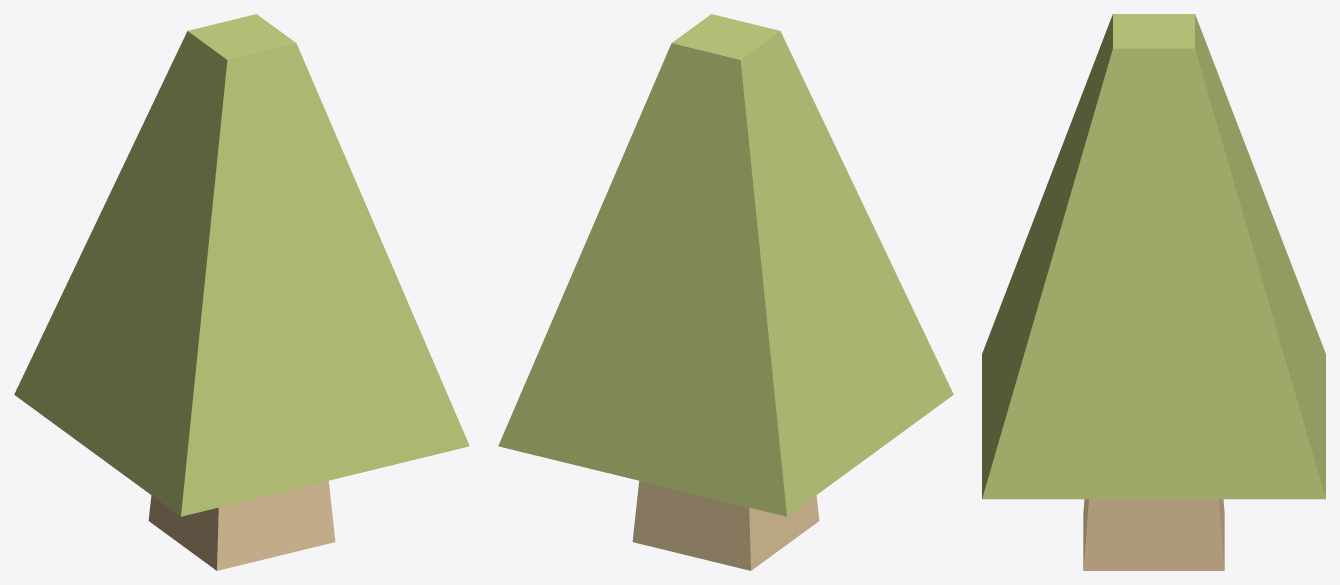
The model's file is Tree_3.fbx.
3 views of the same model, side by side, from view 1: azimuth 30°, elevation 25°; view 2: azimuth 150°, elevation 25°; view 3: azimuth 270°, elevation 25° (orthographic). The views are drawn at different scales.
Visible parts, largest first — view 1: Tree.002; view 2: Tree.002; view 3: Tree.002.
Boxes of the visible parts, bbox=[...] form: Tree.002: bbox=[14, 14, 469, 570]; Tree.002: bbox=[498, 14, 953, 570]; Tree.002: bbox=[982, 14, 1325, 570].
Size of the model in its own units: 199 by 325 by 199.
